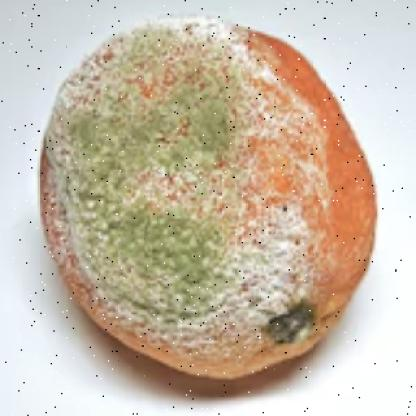rotten: (39, 13, 379, 380)
